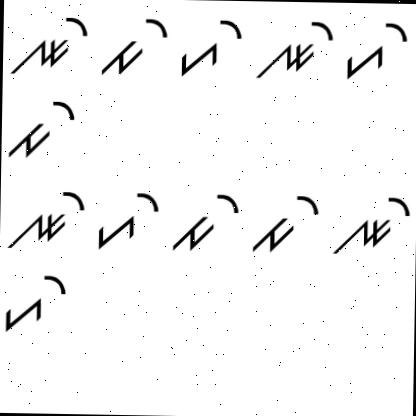hay: (1, 262, 69, 332), (92, 186, 164, 251), (343, 16, 410, 85), (180, 14, 244, 78)
mbay: (98, 11, 172, 79), (8, 92, 78, 160), (172, 186, 240, 254), (250, 192, 321, 256)
nday: (5, 179, 88, 252), (328, 189, 412, 261), (253, 17, 335, 86), (7, 12, 91, 76)
